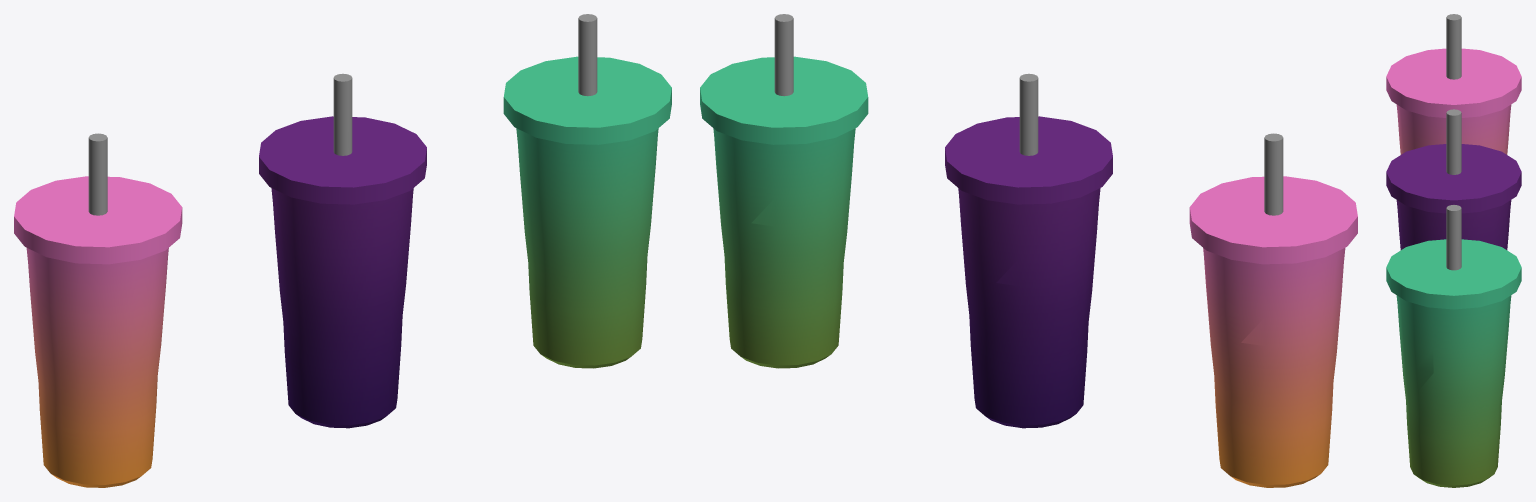
Rendered from tumbler_collection.glb.
3 renders of one model, left to right at view 1: azimuth 30°, elevation 25°; view 2: azimuth 150°, elevation 25°; view 3: azimuth 270°, elevation 25°, orthographic. The views are drawn at different scales.
Visible parts, largest first — view 1: Tumbler3, Tumbler1, Tumbler2; view 2: Tumbler3, Tumbler1, Tumbler2; view 3: Tumbler3, Tumbler1, Tumbler2.
Part boxes in pixels (box(x1,y1,x2,y2)): Tumbler3: box(503, 14, 671, 368); Tumbler1: box(14, 133, 182, 487); Tumbler2: box(259, 73, 426, 428); Tumbler3: box(700, 14, 868, 368); Tumbler1: box(1189, 133, 1357, 487); Tumbler2: box(945, 73, 1112, 428); Tumbler3: box(1386, 205, 1521, 487); Tumbler1: box(1386, 14, 1521, 154); Tumbler2: box(1386, 109, 1521, 249).
Size of the model in its own units: 0.39 by 0.1935 by 0.09.
3 materials, 3 textured.
